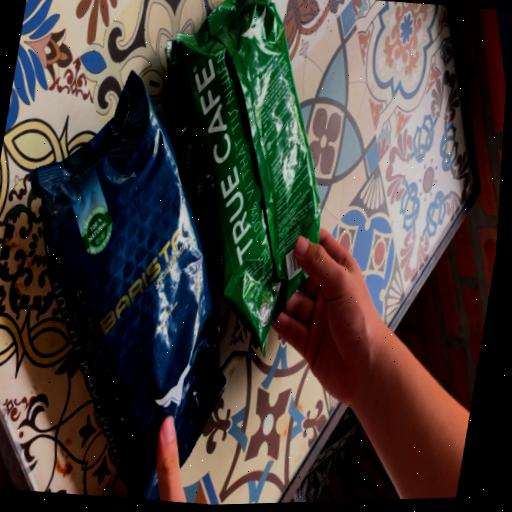cafe_hat: (30, 72, 225, 501)
cafe_xay: (166, 0, 320, 353)
